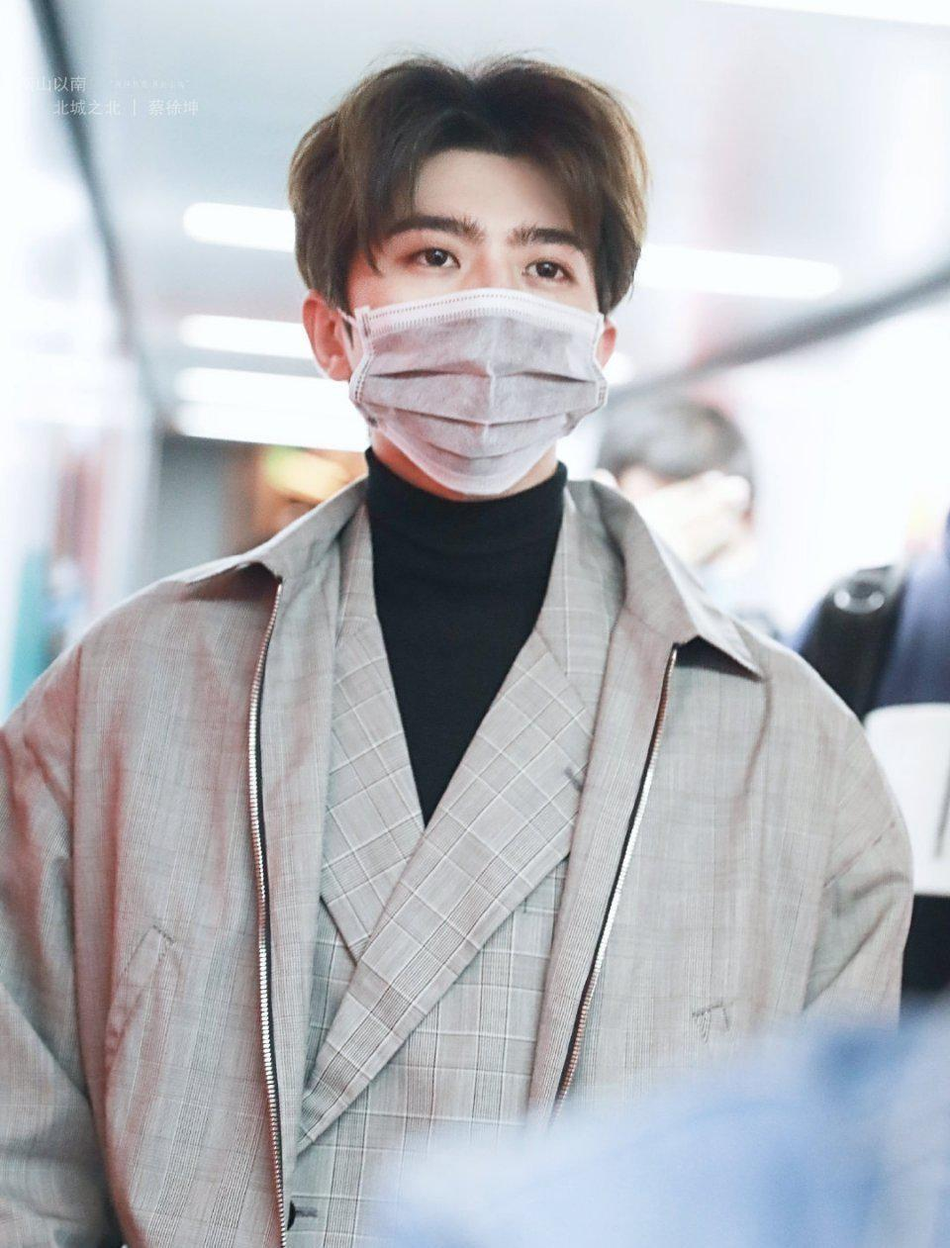OK: (355, 185, 606, 496)
